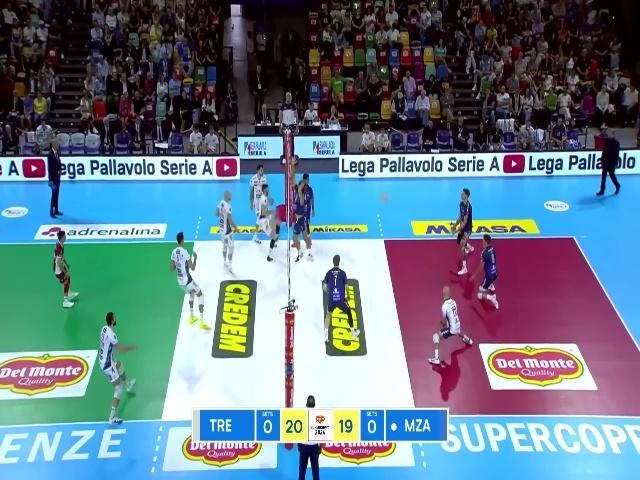volleyball court: (1, 235, 640, 423)
